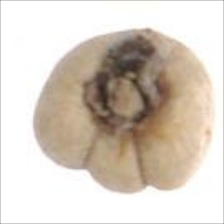L5: (81, 35, 172, 135), (81, 126, 153, 197)
L6: (29, 26, 216, 197)
